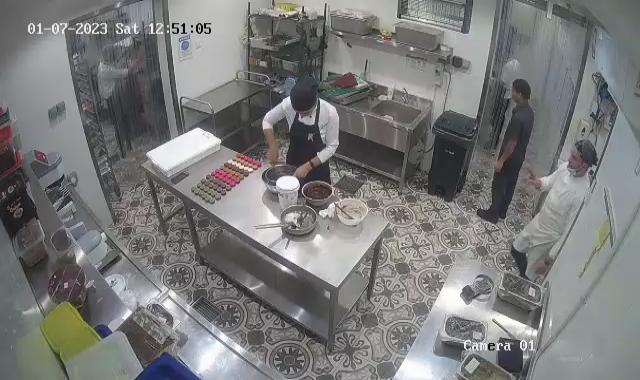no_hairnet: (289, 74, 318, 113), (574, 138, 598, 173), (512, 79, 532, 103)
